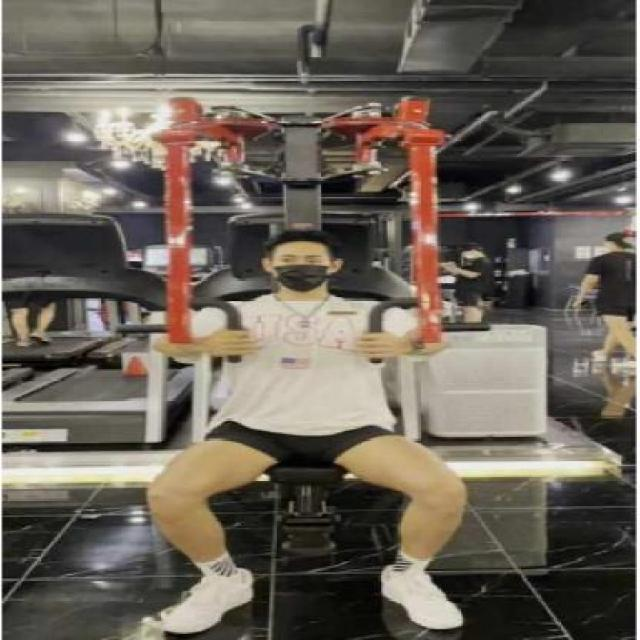chest fly machine: (57, 72, 514, 640)
